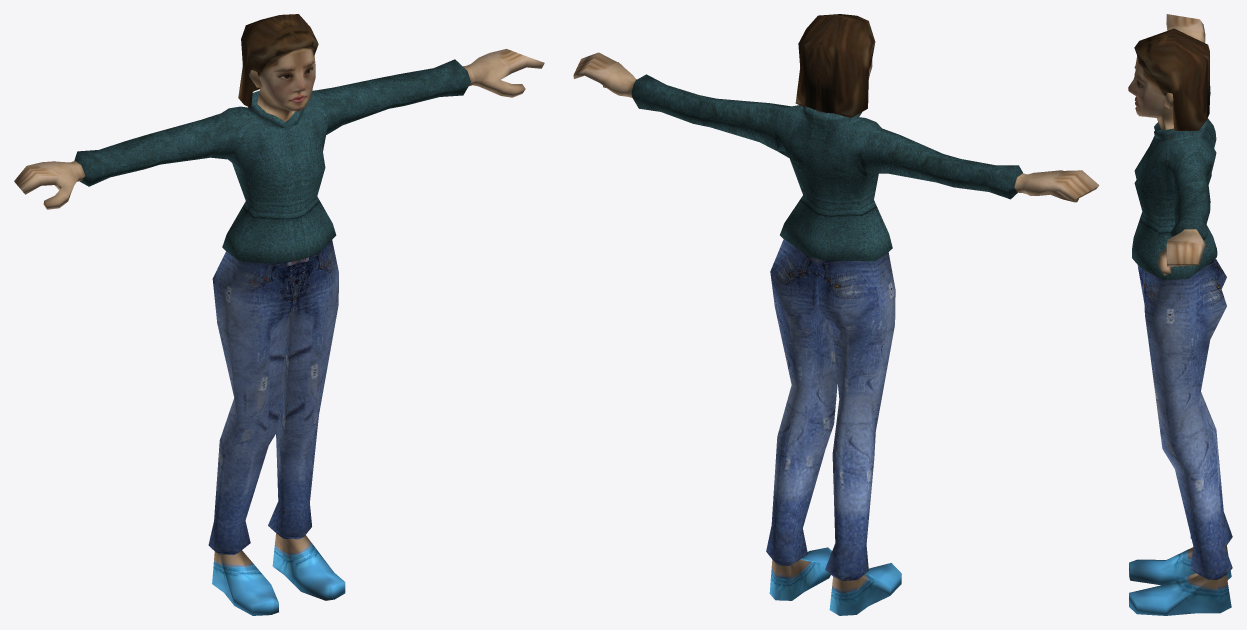
Rendered from young woman.fbx.
3 renders of one model, left to right at view 1: azimuth 30°, elevation 25°; view 2: azimuth 150°, elevation 25°; view 3: azimuth 270°, elevation 25°, orthographic. The views are drawn at different scales.
Parts seen in each view (by area): view 1: base 1.001; view 2: base 1.001; view 3: base 1.001.
Part boxes in pixels (<box>): base 1.001: <box>14,14,544,615</box>; base 1.001: <box>573,14,1099,615</box>; base 1.001: <box>1128,14,1232,615</box>.
Bounding box in the file's own units: 173 × 182 × 30.9.
